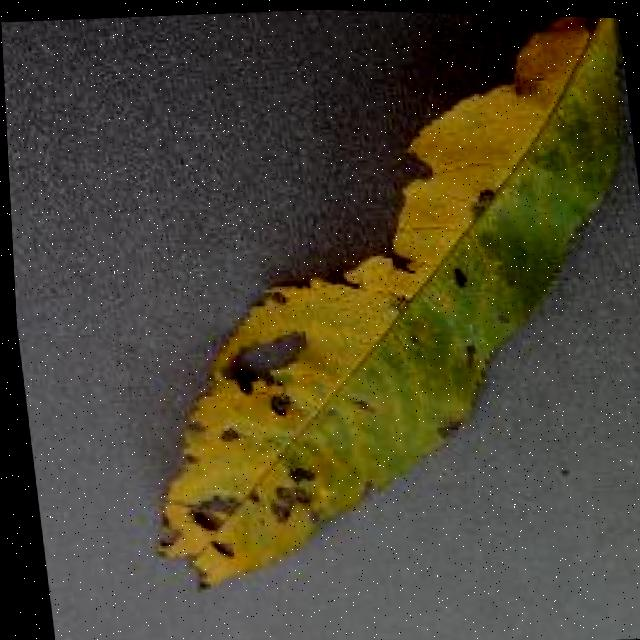Bacterial_spot: (451, 175, 506, 234), (432, 258, 486, 298), (446, 333, 488, 379)
